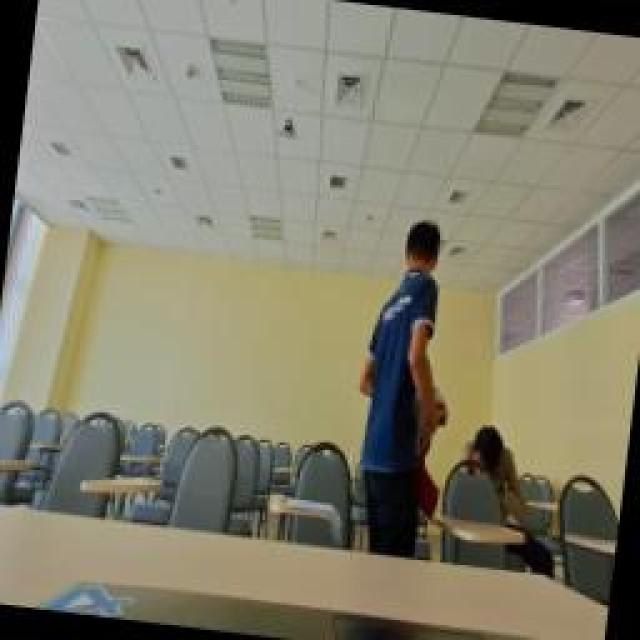sleep: (448, 415, 538, 533)
